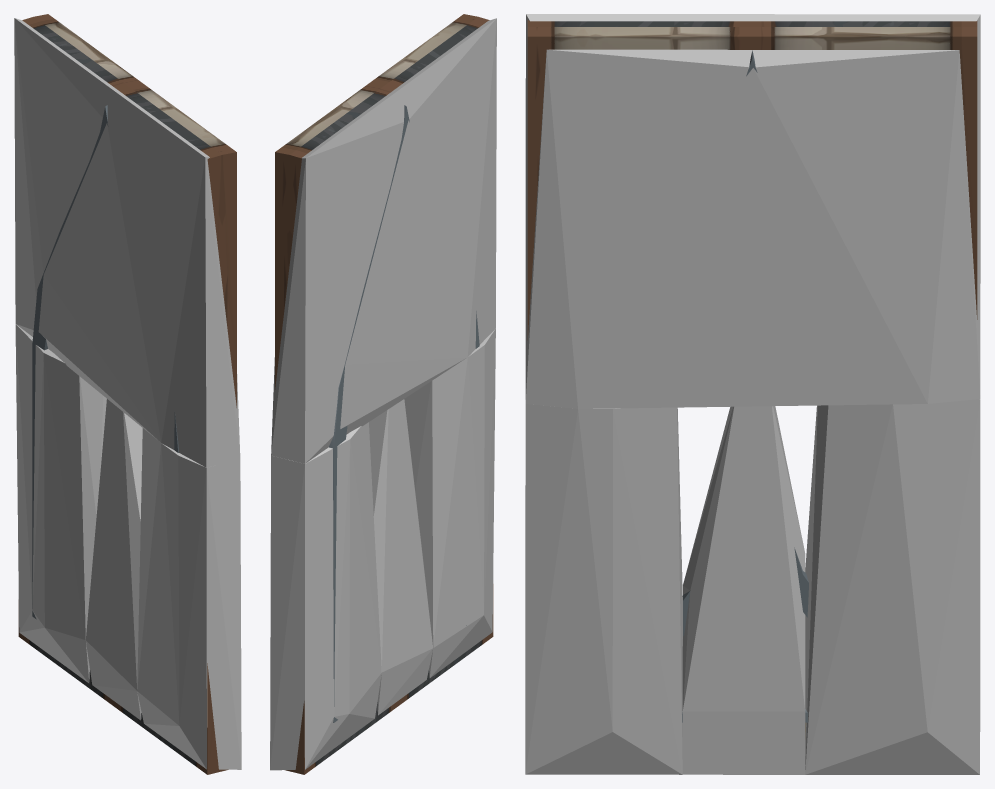
File: SM_Bld_Window_Tall_01a.fbx
3 renders of one model, left to right at view 1: azimuth 30°, elevation 25°; view 2: azimuth 150°, elevation 25°; view 3: azimuth 270°, elevation 25°, orthographic. The views are drawn at different scales.
Visible parts, largest first — view 1: SM_Bld_Window_Tall_01a_ConvexHulls, SM_Bld_Window_Tall_01a; view 2: SM_Bld_Window_Tall_01a_ConvexHulls, SM_Bld_Window_Tall_01a; view 3: SM_Bld_Window_Tall_01a_ConvexHulls, SM_Bld_Window_Tall_01a.
Boxes of the visible parts, x1,y1,x2,y2 form: SM_Bld_Window_Tall_01a_ConvexHulls: [14, 18, 241, 769]; SM_Bld_Window_Tall_01a: [18, 14, 236, 774]; SM_Bld_Window_Tall_01a_ConvexHulls: [270, 18, 496, 770]; SM_Bld_Window_Tall_01a: [275, 14, 493, 774]; SM_Bld_Window_Tall_01a_ConvexHulls: [525, 14, 980, 774]; SM_Bld_Window_Tall_01a: [527, 20, 977, 738].
Bounding box in the file's own units: 39.67 × 253 × 454.
4 materials, 3 textured.
